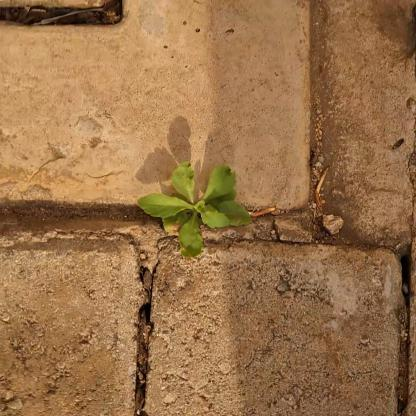Weeds: (137, 161, 251, 260)
